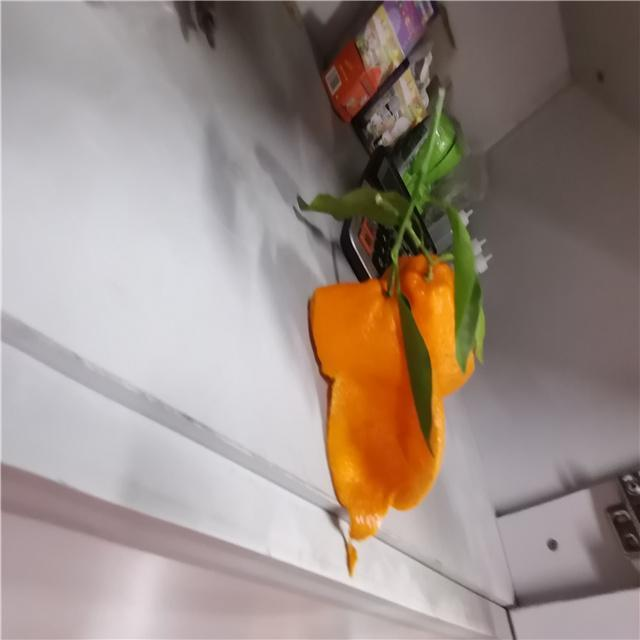orange peel: (309, 276, 445, 575), (388, 251, 481, 393)
